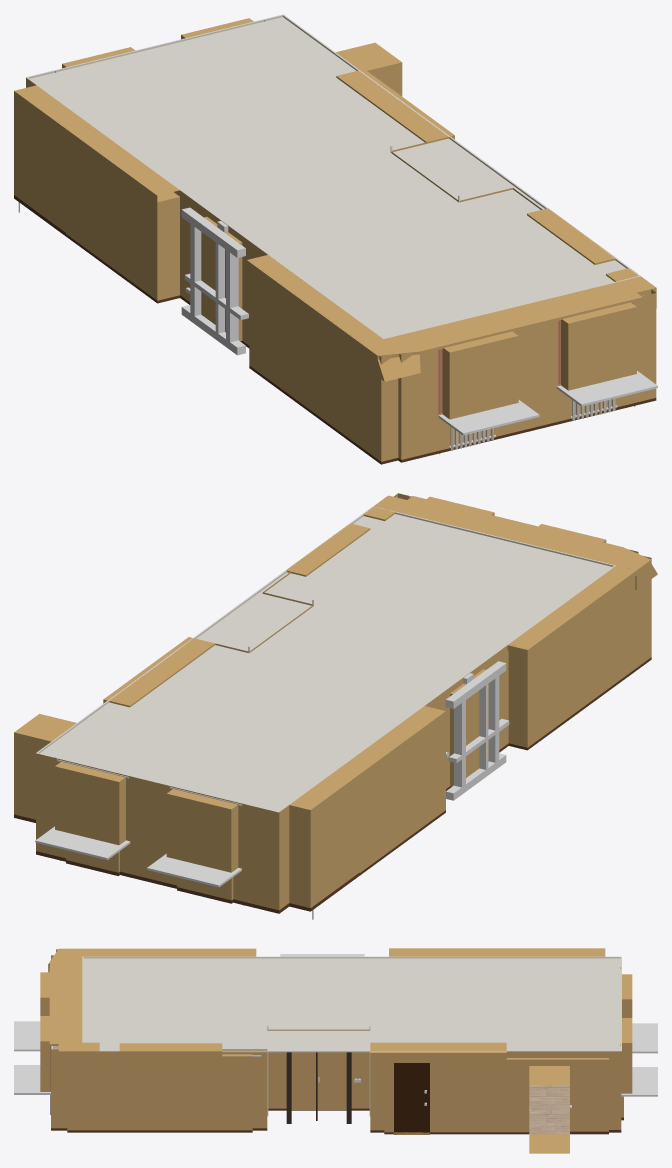
File: room_web.glb
The picture shows the model from 3 angles, top to bottom: view 1: azimuth 30°, elevation 25°; view 2: azimuth 150°, elevation 25°; view 3: azimuth 270°, elevation 25°; orthographic projection. The views are drawn at different scales.
Visible parts, largest first — view 1: Plane, Plane.005, Plane.019, Plane.008, Plane.006, Plane.013; view 2: Plane, Plane.005, Plane.019, Plane.008, Plane.006; view 3: Plane.005, Plane, Plane.008, Plane.014, Plane.007, Plane.006, Plane.018, Plane.013.
Part boxes in pixels (box(x1,y1,x2,y2)): Plane: box(26, 14, 640, 338); Plane.005: box(14, 18, 656, 461); Plane.019: box(181, 207, 248, 355); Plane.008: box(438, 320, 657, 435); Plane.006: box(14, 195, 656, 464); Plane.013: box(606, 268, 656, 308); Plane: box(36, 506, 615, 812); Plane.005: box(14, 493, 657, 910); Plane.019: box(445, 661, 509, 800); Plane.008: box(35, 759, 241, 887); Plane.006: box(14, 657, 651, 913); Plane.005: box(40, 948, 632, 1153); Plane: box(82, 956, 621, 1052); Plane.008: box(14, 1021, 657, 1096); Plane.014: box(394, 1063, 429, 1132); Plane.007: box(53, 1046, 569, 1134); Plane.006: box(51, 1108, 623, 1134); Plane.018: box(286, 1052, 351, 1123); Plane.013: box(58, 1042, 99, 1066).
Bounding box in the file's own units: 7.52 × 3.26 × 16.46.
21 materials, 5 textured.
